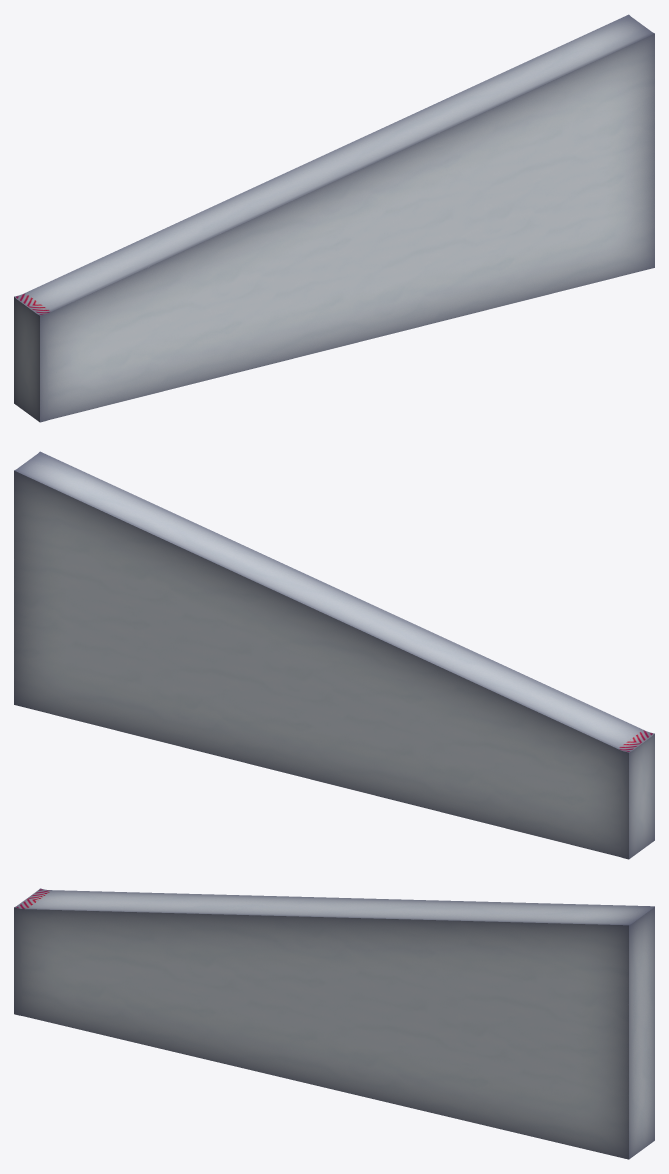
The model's file is Slope_Main 1.fbx.
3 views of the same model, one above another, from view 1: azimuth 30°, elevation 25°; view 2: azimuth 150°, elevation 25°; view 3: azimuth 330°, elevation 25° (orthographic).
Parts seen in each view (by area): view 1: Cube.001; view 2: Cube.001; view 3: Cube.001.
Boxes of the visible parts, <box> form: Cube.001: <box>14,14,654,422</box>; Cube.001: <box>14,451,654,859</box>; Cube.001: <box>14,888,654,1159</box>.
Bounding box in the file's own units: 10100 × 3751 × 740.
Materials: 1 (1 with a texture image).
